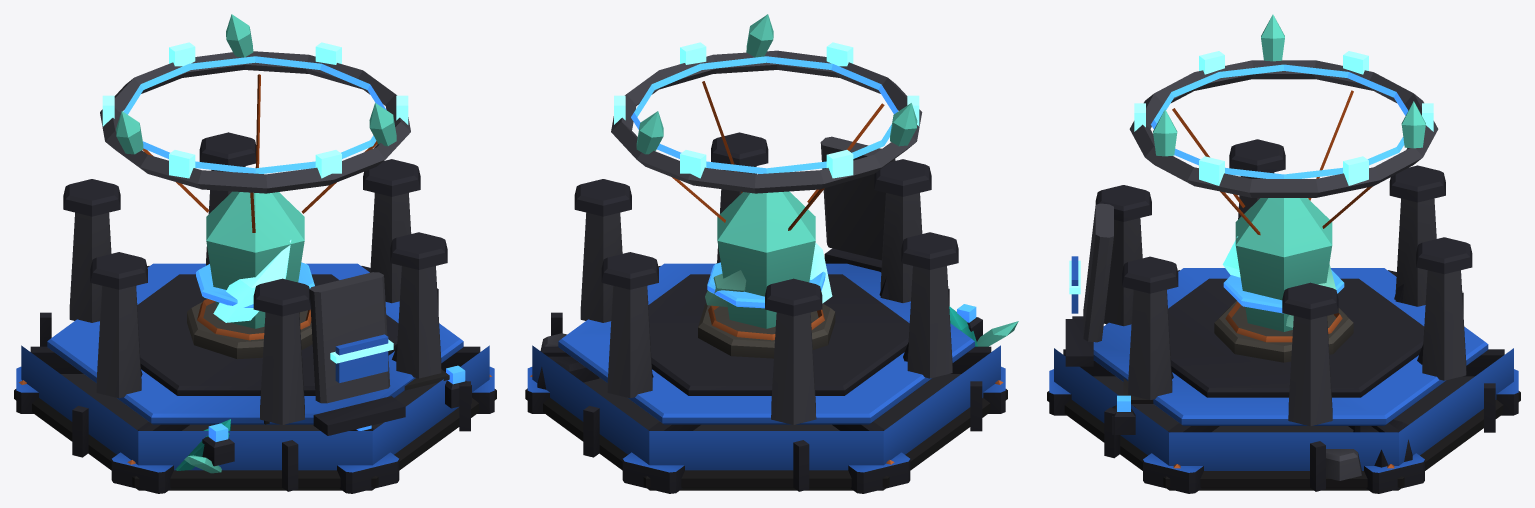
The model's file is n_tideheart.glb.
The picture shows the model from 3 angles, left to right: view 1: azimuth 30°, elevation 25°; view 2: azimuth 150°, elevation 25°; view 3: azimuth 270°, elevation 25°; orthographic projection.
Visible parts, largest first — view 1: body, spinRing, bobCore; view 2: body, spinRing, bobCore; view 3: body, spinRing, bobCore.
Boxes of the visible parts, x1,y1,x2,y2 form: body: (14, 74, 496, 493); spinRing: (100, 14, 410, 193); bobCore: (196, 191, 314, 328); body: (525, 81, 1018, 493); spinRing: (611, 14, 922, 193); bobCore: (705, 191, 832, 328); body: (1047, 90, 1520, 493); spinRing: (1129, 14, 1438, 197); bobCore: (1222, 198, 1344, 331).
Size of the model in its own units: 1.95 by 1.55 by 2.04.
